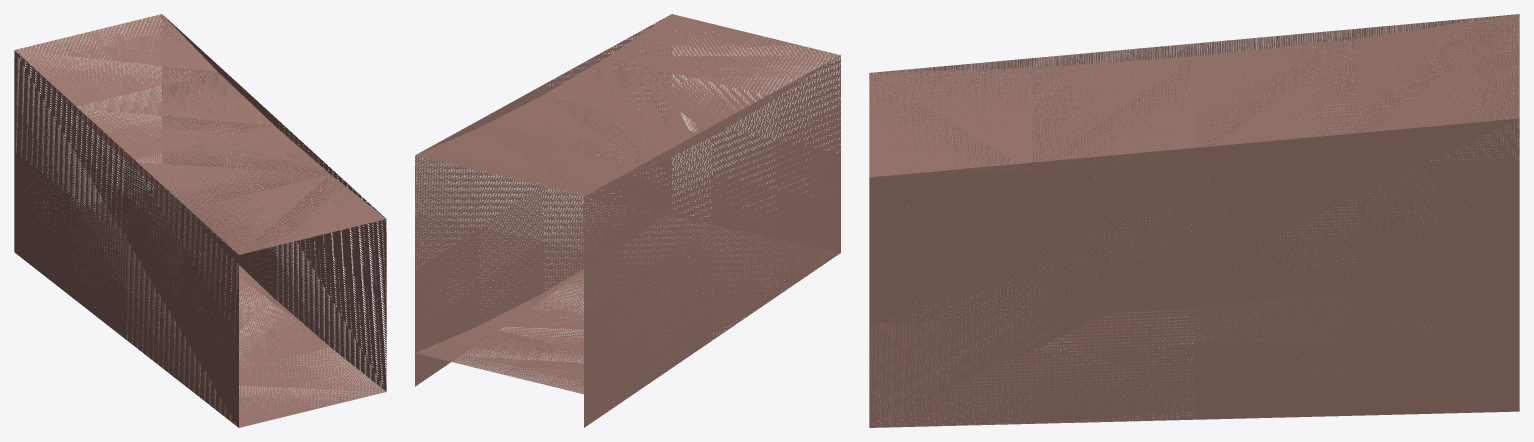
Rendered from SW_ENV_RailTunnel_Riser_A_Single_10m_Collision.fbx.
3 views of the same model, side by side, from view 1: azimuth 30°, elevation 25°; view 2: azimuth 150°, elevation 25°; view 3: azimuth 270°, elevation 25° (orthographic). The views are drawn at different scales.
Parts seen in each view (by area): view 1: SW_ENV_RailTunnel_Riser_A_Single_10m_Collision; view 2: SW_ENV_RailTunnel_Riser_A_Single_10m_Collision; view 3: SW_ENV_RailTunnel_Riser_A_Single_10m_Collision.
Part boxes in pixels (<box>): SW_ENV_RailTunnel_Riser_A_Single_10m_Collision: <box>14,14,386,427</box>; SW_ENV_RailTunnel_Riser_A_Single_10m_Collision: <box>415,14,840,427</box>; SW_ENV_RailTunnel_Riser_A_Single_10m_Collision: <box>869,14,1519,427</box>.
Bounding box in the file's own units: 3.8 × 5.25 × 10.
